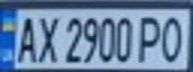0: (97, 14, 118, 63), (115, 14, 136, 63)
2: (60, 12, 84, 64)
9: (78, 12, 100, 64)
A: (12, 12, 39, 64)
O: (157, 12, 190, 63)
P: (136, 12, 166, 63)
X: (33, 11, 60, 64)
